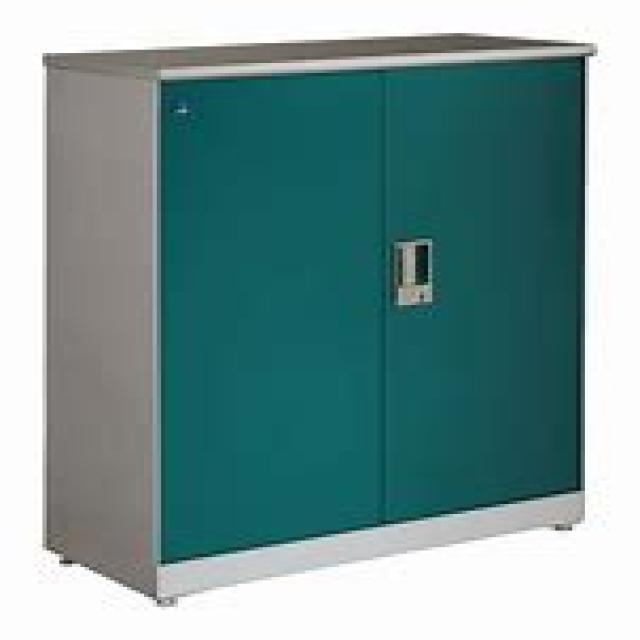dolap: (39, 29, 594, 604)
